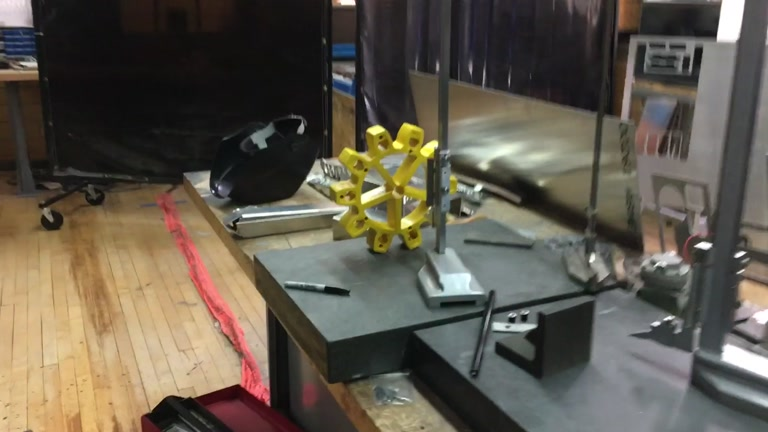gear: (330, 124, 458, 254)
